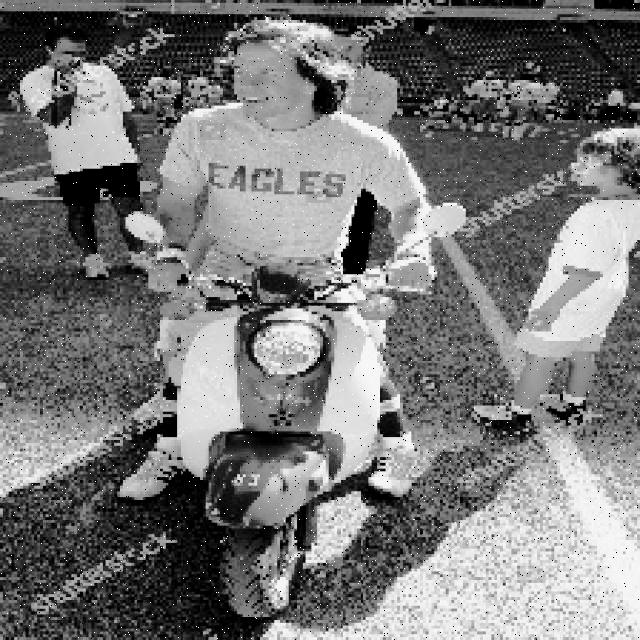Bike: (164, 252, 391, 630)
